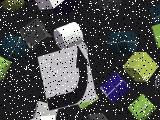Left: (38, 43, 98, 111)
